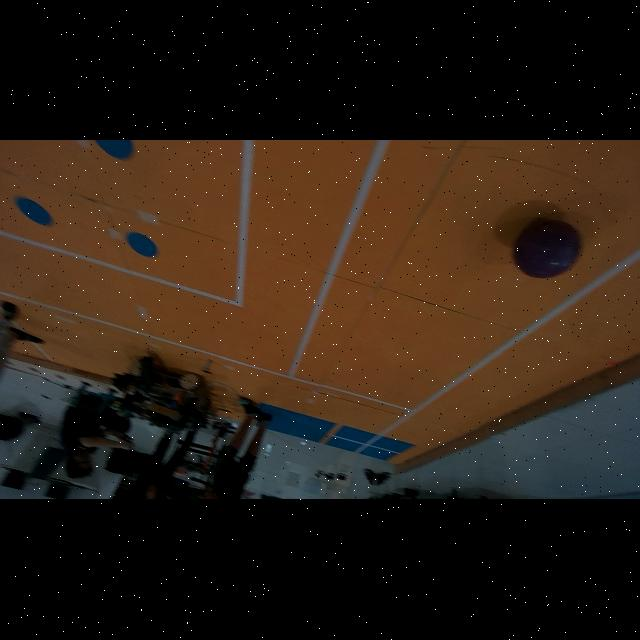B: (513, 220, 580, 278)
